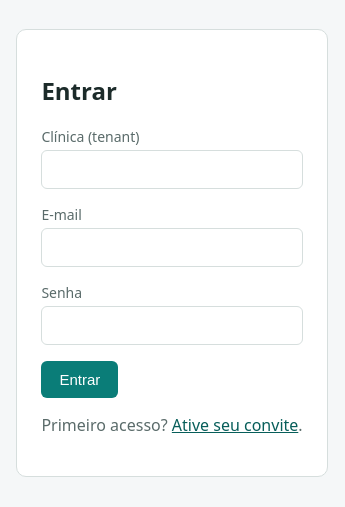
Test: LoginPage › em 401, mostra mensagem generica de credenciais invalidas
The width and height of the screenshot is (345, 507).
Type "clinic-1" into the field labelled "Clínica (tenant)" at coordinates (172, 169), box [41,150,303,189]
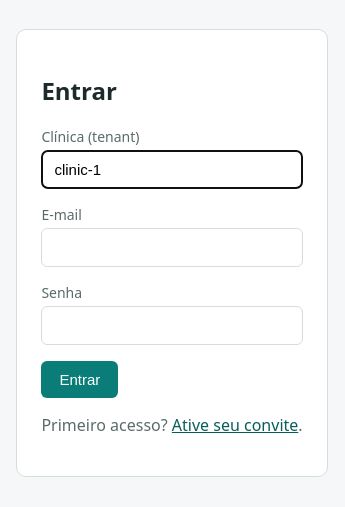
Type "user@example.com" into the field labelled "E-mail" at coordinates (172, 247), box [41,228,303,267]
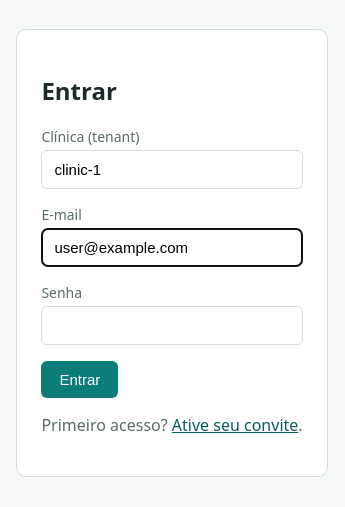
Type "secret" into the password field labelled "Senha" at coordinates (172, 325), box [41,306,303,345]
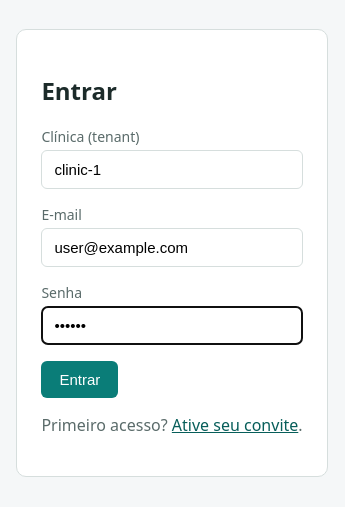
Click the button "Entrar" at coordinates (80, 379), box [41,361,118,398]
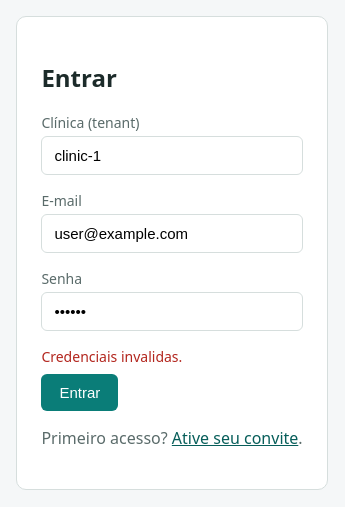
Check: the text "Credenciais invalidas." is shown, box [41,347,182,366]
